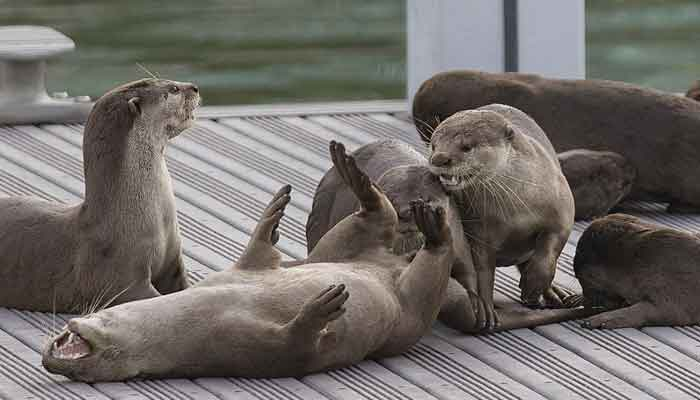otter: (35, 135, 457, 390), (4, 65, 208, 305), (423, 101, 580, 339)
